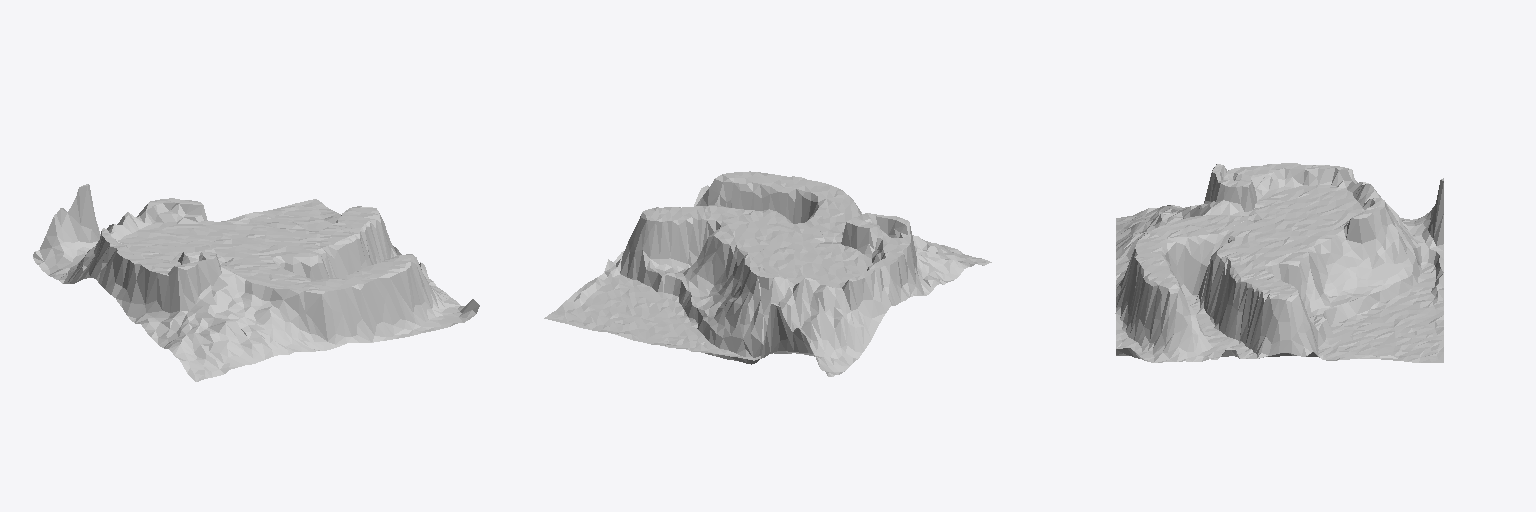
Rendered from RihnoHabitat.obj.
3 renders of one model, left to right at view 1: azimuth 30°, elevation 25°; view 2: azimuth 150°, elevation 25°; view 3: azimuth 270°, elevation 25°, orthographic.
Parts seen in each view (by area): view 1: 1.008; view 2: 1.008; view 3: 1.008.
Boxes of the visible parts, box(x1,y1,x2,y2) form: 1.008: box(33, 184, 479, 381); 1.008: box(544, 171, 991, 376); 1.008: box(1115, 163, 1443, 362).
Size of the model in its own units: 100 by 25.99 by 100.